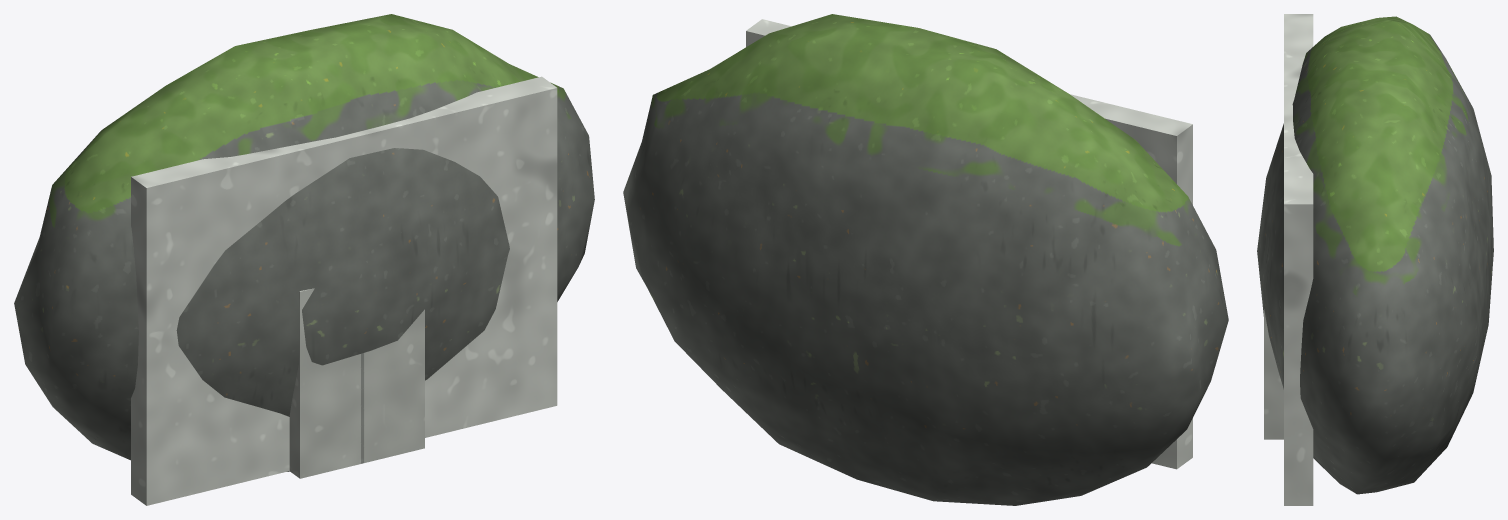
File: screen_rock.glb
The picture shows the model from 3 angles, left to right: view 1: azimuth 30°, elevation 25°; view 2: azimuth 150°, elevation 25°; view 3: azimuth 270°, elevation 25°; orthographic projection. The views are drawn at different scales.
Visible parts, largest first — view 1: ScreenRock, Door; view 2: ScreenRock; view 3: ScreenRock, Door.
Boxes of the visible parts, <box> form: ScreenRock: <box>14,14,594,505</box>; Door: <box>289,288,424,478</box>; ScreenRock: <box>623,14,1228,505</box>; ScreenRock: <box>1257,14,1493,505</box>; Door: <box>1264,309,1283,439</box>.
Bounding box in the file's own units: 6.25 × 4.63 × 2.42.
Materials: 1 (1 with a texture image).
